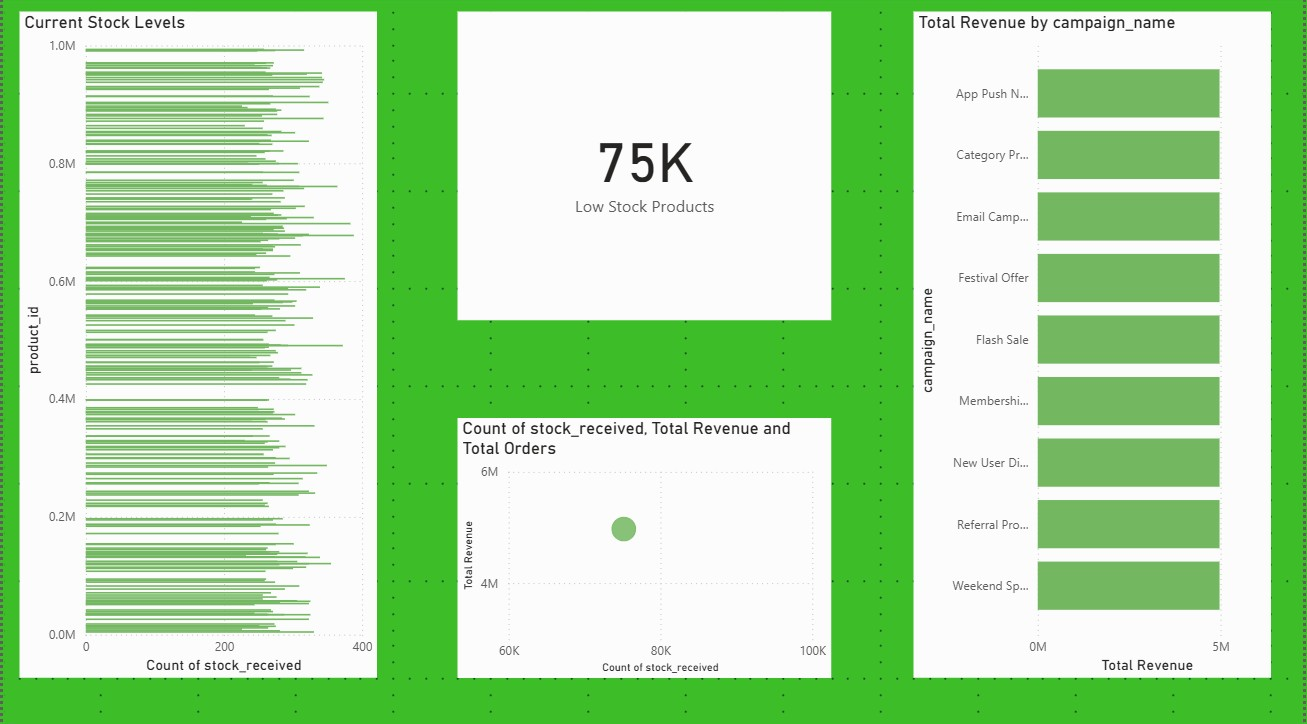

What the dashboard file says about the page in this screenshot:
{"tool":"powerbi","page":{"name":"Business Insights","canvas":[1280,720],"ordinal":3},"visuals":[{"type":"barChart","title":"Current Stock Levels","fields":{"Category":["blinkit_inventory.product_id"],"Y":["CountNonNull(blinkit_inventory.stock_received)"]},"box":[16,16,352,656],"z":0},{"type":"card","fields":{"Values":["Measures (2).Low Stock Products"]},"box":[448,16,368,304],"z":1},{"type":"scatterChart","fields":{"X":["CountNonNull(blinkit_inventory.stock_received)"],"Y":["Measures (2).Total Revenue"],"Size":["Measures (2).Total Orders"]},"box":[448,416,368,256],"z":2},{"type":"barChart","fields":{"Category":["blinkit_marketing_performance.campaign_name"],"Y":["Measures (2).Total Revenue"]},"box":[896,16,352,656],"z":3}]}

Visuals, with their boxes in screenshot pixels (x1, y1, x2, y2), scaled from the page's 1280x720 canvas onto the 1307x724 screenshot:
"Current Stock Levels" barChart: bbox=(16, 16, 376, 676)
card - Measures (2).Low Stock Products: bbox=(457, 16, 833, 322)
scatterChart - CountNonNull(blinkit_inventory.stock_received) x Measures (2).Total Revenue: bbox=(457, 418, 833, 676)
barChart - blinkit_marketing_performance.campaign_name x Measures (2).Total Revenue: bbox=(915, 16, 1274, 676)
